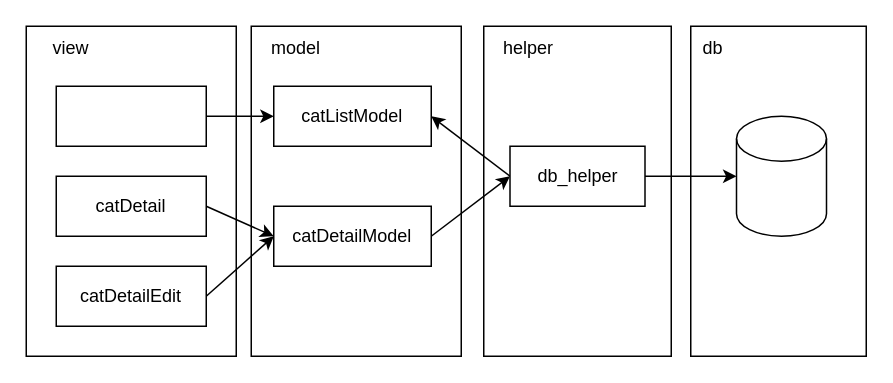
Image size: 893x383. Some labels were removed from this diagram. The shapes that lost their labels are listed below. From the top down, each one's centre as x and y in pixels, then its label:
point 130,115: catList
point 780,175: cats
